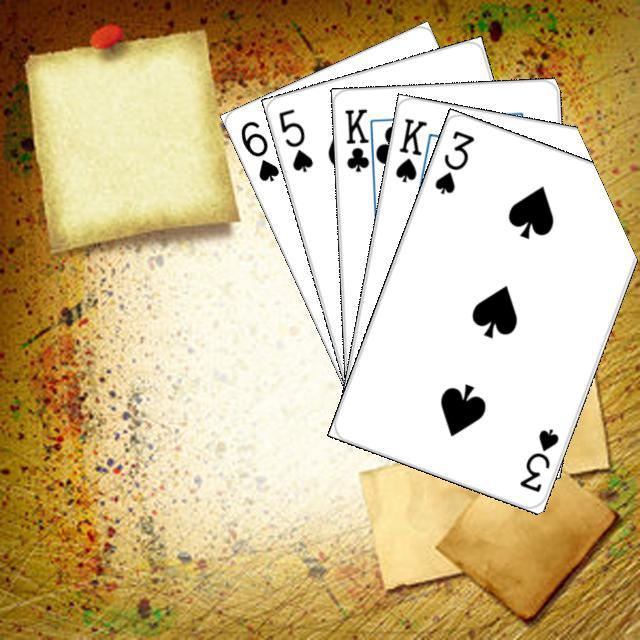3s: (429, 125, 476, 196), (515, 423, 561, 494)
5s: (273, 103, 315, 174)
6s: (235, 115, 281, 184)
Kc: (339, 103, 377, 180)
Ks: (390, 113, 429, 184)
